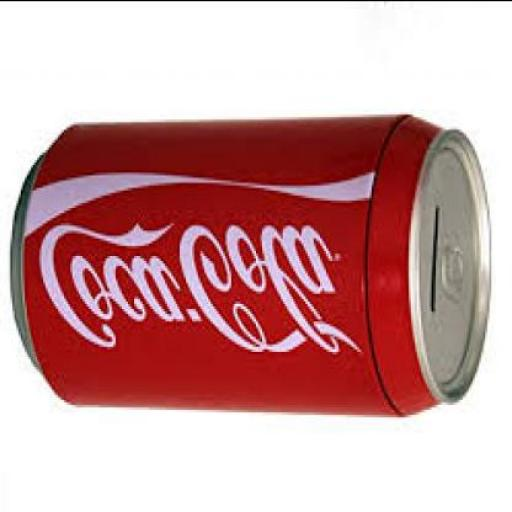metal: (9, 111, 491, 418)
